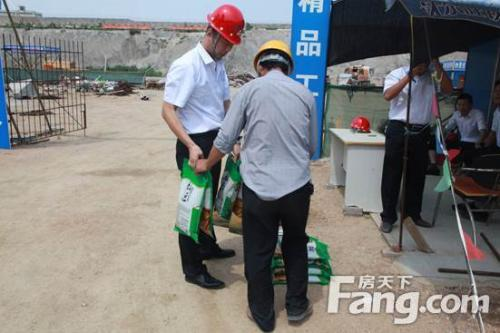boots: (185, 263, 224, 288), (247, 306, 275, 332), (287, 298, 313, 323), (199, 242, 236, 259), (411, 215, 432, 227), (380, 219, 393, 232)
hard-hat: (206, 4, 245, 45), (253, 38, 294, 74)
person: (193, 38, 317, 332), (161, 3, 245, 289), (379, 50, 441, 232), (443, 92, 487, 172)
